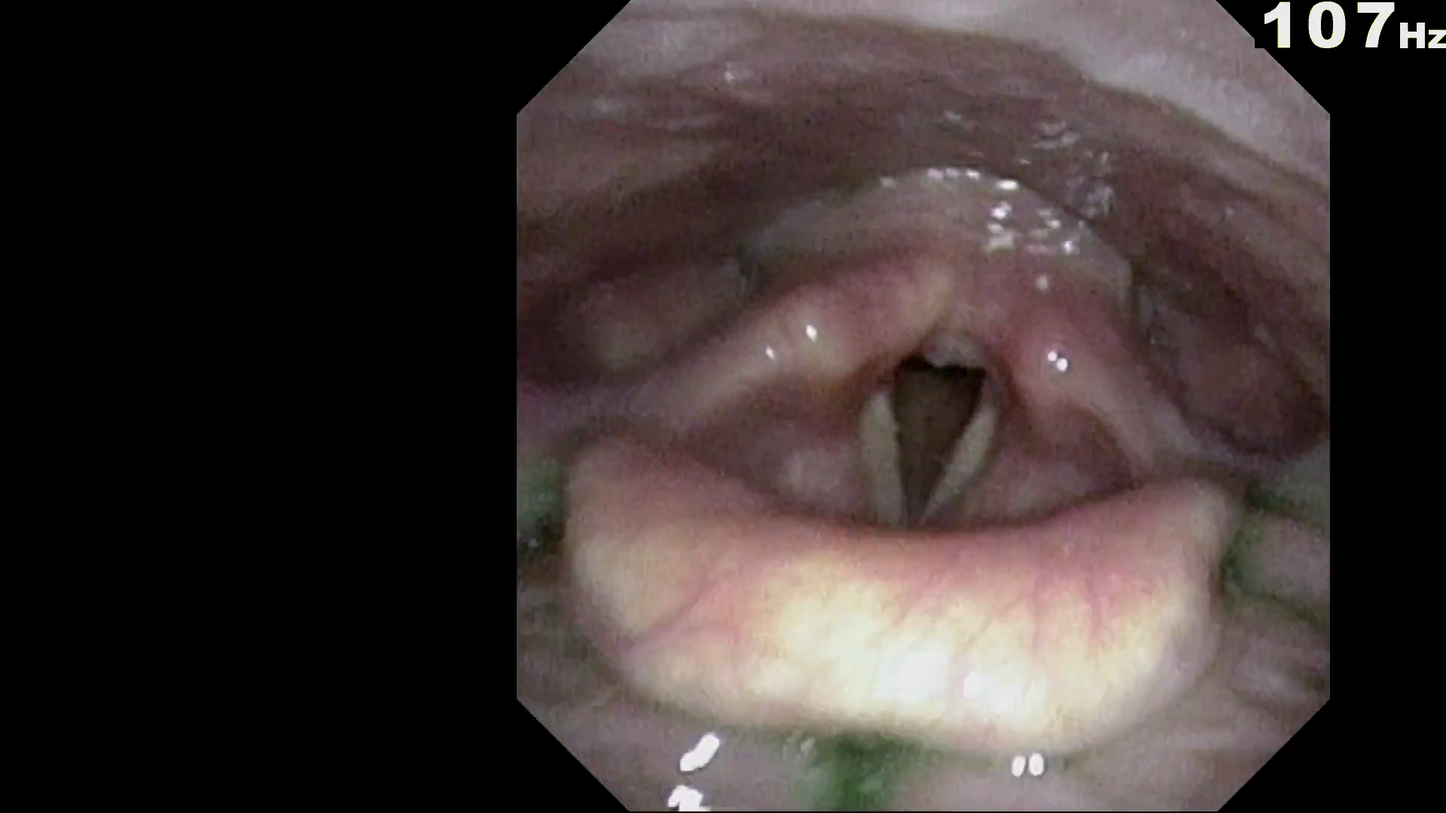epiglottis: (602, 489, 1226, 761)
trachea: (862, 329, 1009, 551)
